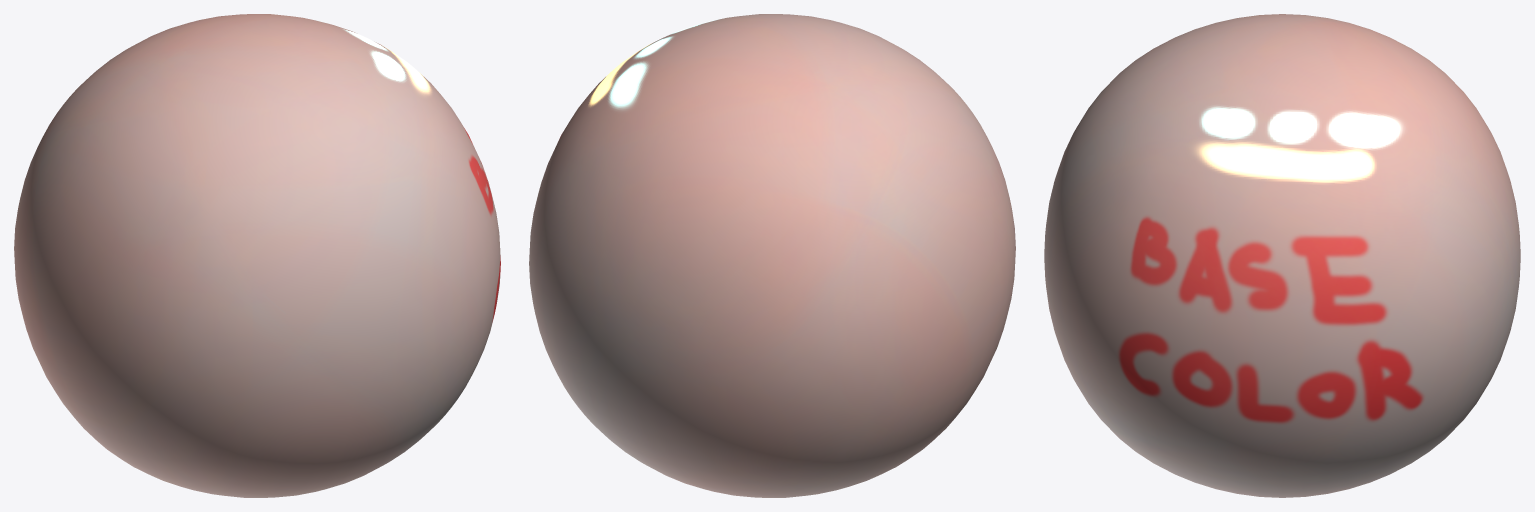
The model's file is various_map_type.gltf.
The picture shows the model from 3 angles, left to right: view 1: azimuth 30°, elevation 25°; view 2: azimuth 150°, elevation 25°; view 3: azimuth 270°, elevation 25°; orthographic projection.
Visible parts, largest first — view 1: Cube; view 2: Cube; view 3: Cube.
Part boxes in pixels (x1=…): Cube: x1=14, y1=14, x2=500, y2=497; Cube: x1=529, y1=14, x2=1015, y2=497; Cube: x1=1044, y1=14, x2=1520, y2=497.
Bounding box in the file's own units: 1.68 × 1.68 × 1.68.
Materials: 1 (1 with a texture image).
